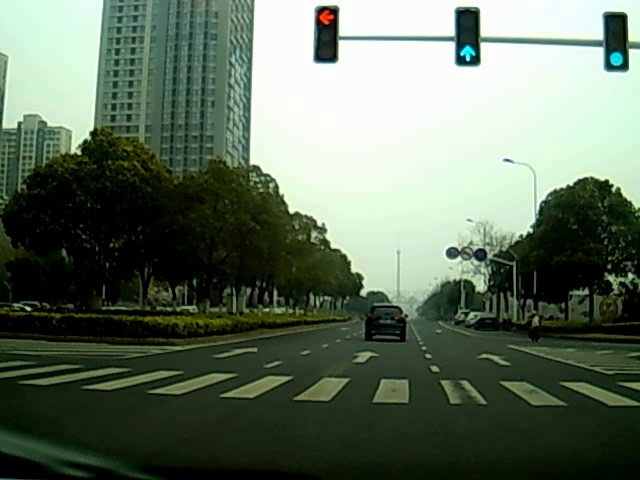Traffic_Light_go: (606, 29, 628, 72), (457, 30, 480, 66)
Traffic_Light_stop: (313, 8, 340, 46)
